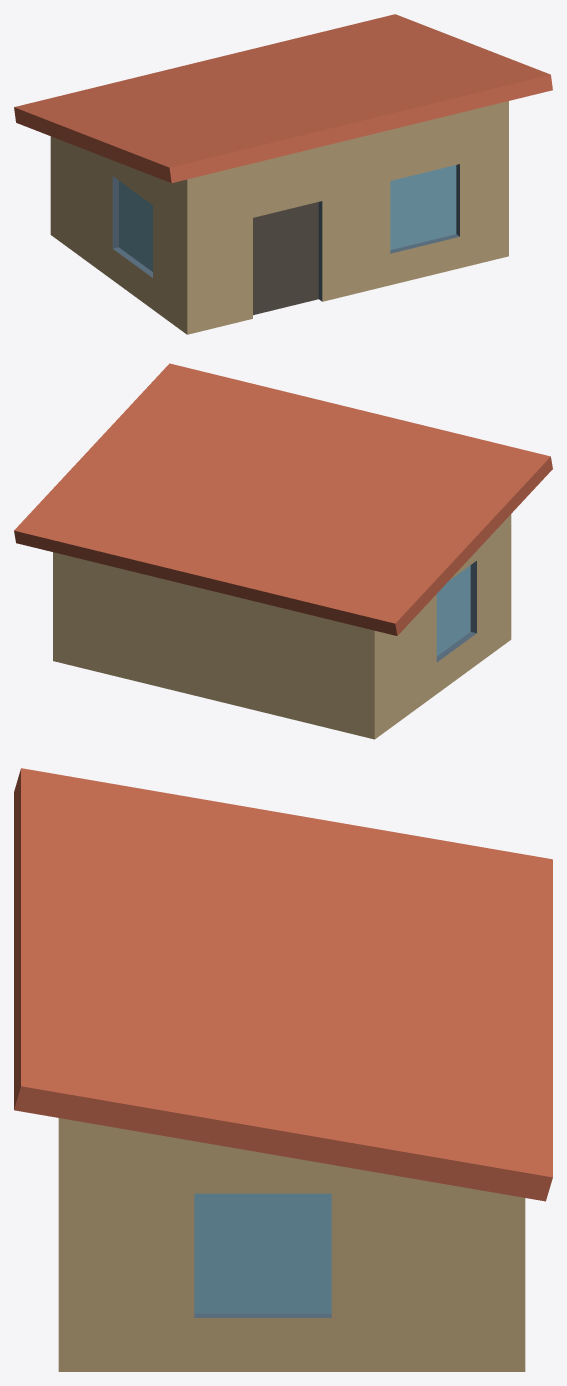
The model's file is House.fbx.
3 renders of one model, top to bottom at view 1: azimuth 30°, elevation 25°; view 2: azimuth 150°, elevation 25°; view 3: azimuth 270°, elevation 25°, orthographic. The views are drawn at different scales.
Parts seen in each view (by area): view 1: House; view 2: House; view 3: House.
Part boxes in pixels (bbox=[...]): House: bbox=[14, 14, 552, 334]; House: bbox=[14, 363, 552, 739]; House: bbox=[14, 768, 552, 1371].
Bounding box in the file's own units: 823 × 375 × 589.
